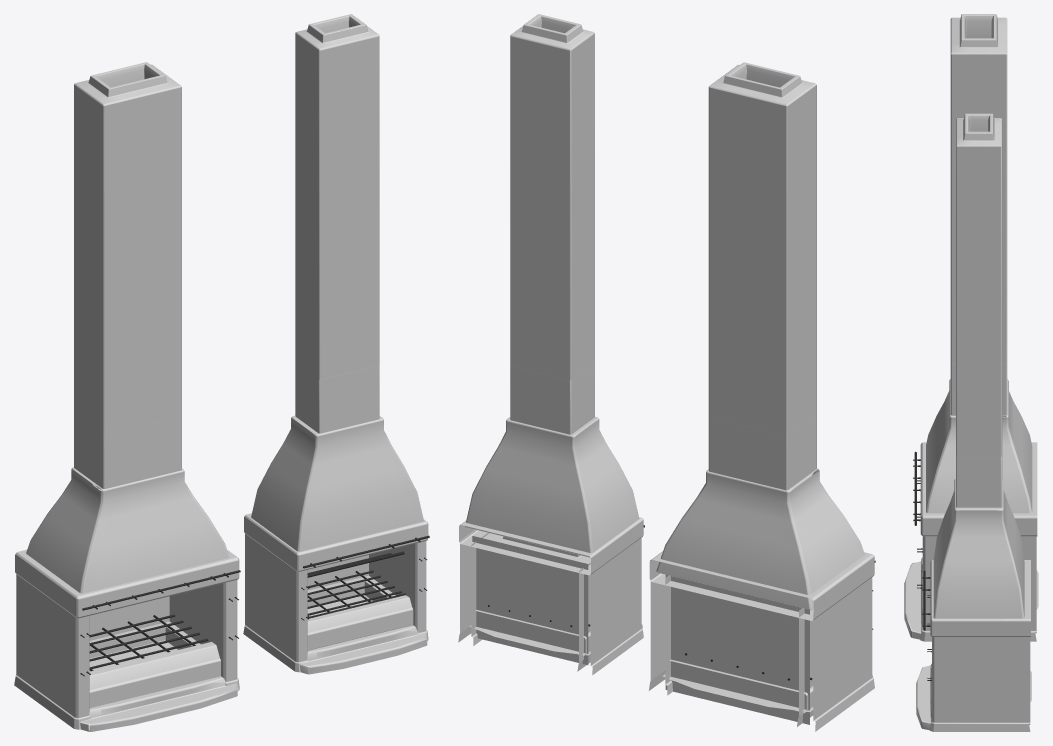
Rendered from Chimneys_1A1.fbx.
The picture shows the model from 3 angles, left to right: view 1: azimuth 30°, elevation 25°; view 2: azimuth 150°, elevation 25°; view 3: azimuth 270°, elevation 25°; orthographic projection. The views are drawn at different scales.
Visible parts, largest first — view 1: Chimney_1A1, Chimney_1A1_Extension_B, Chimney_1A2, Chimney_1A2_Extension_B, Chimney_1A1_Extension_A, Chimney_1A2_Extension_A, Chimney_1A1_Metal_Racks, Chimney_1A2_Metal_Racks; view 2: Chimney_1A1, Chimney_1A1_Extension_B, Chimney_1A2, Chimney_1A2_Extension_B, Chimney_1A1_Extension_A, Chimney_1A2_Extension_A; view 3: Chimney_1A2, Chimney_1A2_Extension_B, Chimney_1A1, Chimney_1A1_Extension_B, Chimney_1A2_Extension_A, Chimney_1A1_Extension_A, Chimney_1A1_Metal_Racks, Chimney_1A2_Metal_Racks.
Boxes of the visible parts, left/top/right/bottom form: Chimney_1A1: left=14, top=467, right=239, bottom=731; Chimney_1A1_Extension_B: left=74, top=62, right=181, bottom=435; Chimney_1A2: left=243, top=416, right=428, bottom=674; Chimney_1A2_Extension_B: left=295, top=14, right=379, bottom=379; Chimney_1A1_Extension_A: left=74, top=414, right=181, bottom=489; Chimney_1A2_Extension_A: left=295, top=363, right=379, bottom=433; Chimney_1A1_Metal_Racks: left=80, top=570, right=240, bottom=676; Chimney_1A2_Metal_Racks: left=301, top=535, right=429, bottom=620; Chimney_1A1: left=649, top=468, right=874, bottom=731; Chimney_1A1_Extension_B: left=708, top=62, right=816, bottom=436; Chimney_1A2: left=458, top=417, right=643, bottom=675; Chimney_1A2_Extension_B: left=510, top=14, right=594, bottom=380; Chimney_1A1_Extension_A: left=708, top=415, right=816, bottom=490; Chimney_1A2_Extension_A: left=510, top=363, right=594, bottom=434; Chimney_1A2: left=916, top=479, right=1031, bottom=731; Chimney_1A2_Extension_B: left=956, top=113, right=1002, bottom=456; Chimney_1A1: left=904, top=379, right=1038, bottom=641; Chimney_1A1_Extension_B: left=950, top=14, right=1007, bottom=364; Chimney_1A2_Extension_A: left=956, top=456, right=1002, bottom=507; Chimney_1A1_Extension_A: left=950, top=364, right=1007, bottom=415; Chimney_1A1_Metal_Racks: left=913, top=451, right=922, bottom=588; Chimney_1A2_Metal_Racks: left=922, top=570, right=931, bottom=680.
Bounding box in the file's own units: 686 × 1119 × 235.
